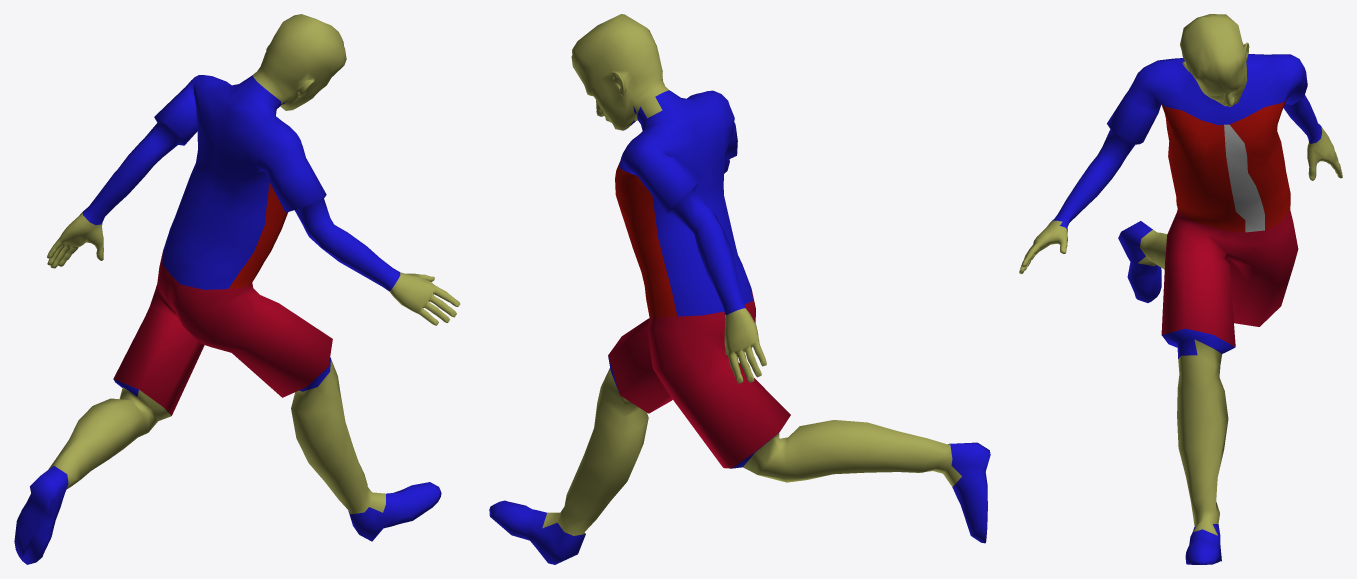
File: player_000029.obj
3 views of the same model, side by side, from view 1: azimuth 30°, elevation 25°; view 2: azimuth 150°, elevation 25°; view 3: azimuth 270°, elevation 25° (orthographic). The views are drawn at different scales.
Visible parts, largest first — view 1: soccerplayer_mesh; view 2: soccerplayer_mesh; view 3: soccerplayer_mesh.
Part boxes in pixels (bbox=[...]): soccerplayer_mesh: bbox=[14, 14, 460, 564]; soccerplayer_mesh: bbox=[489, 14, 990, 564]; soccerplayer_mesh: bbox=[1019, 14, 1342, 564].
Size of the model in its own units: 4.17 by 4.72 by 2.67.
